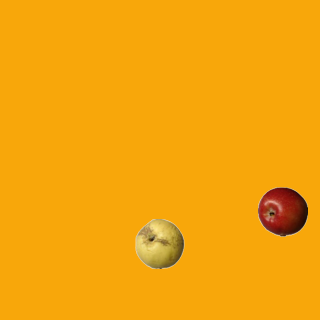Apple Braeburn: (257, 186, 307, 236)
Apple Golden 1: (134, 218, 184, 268)
